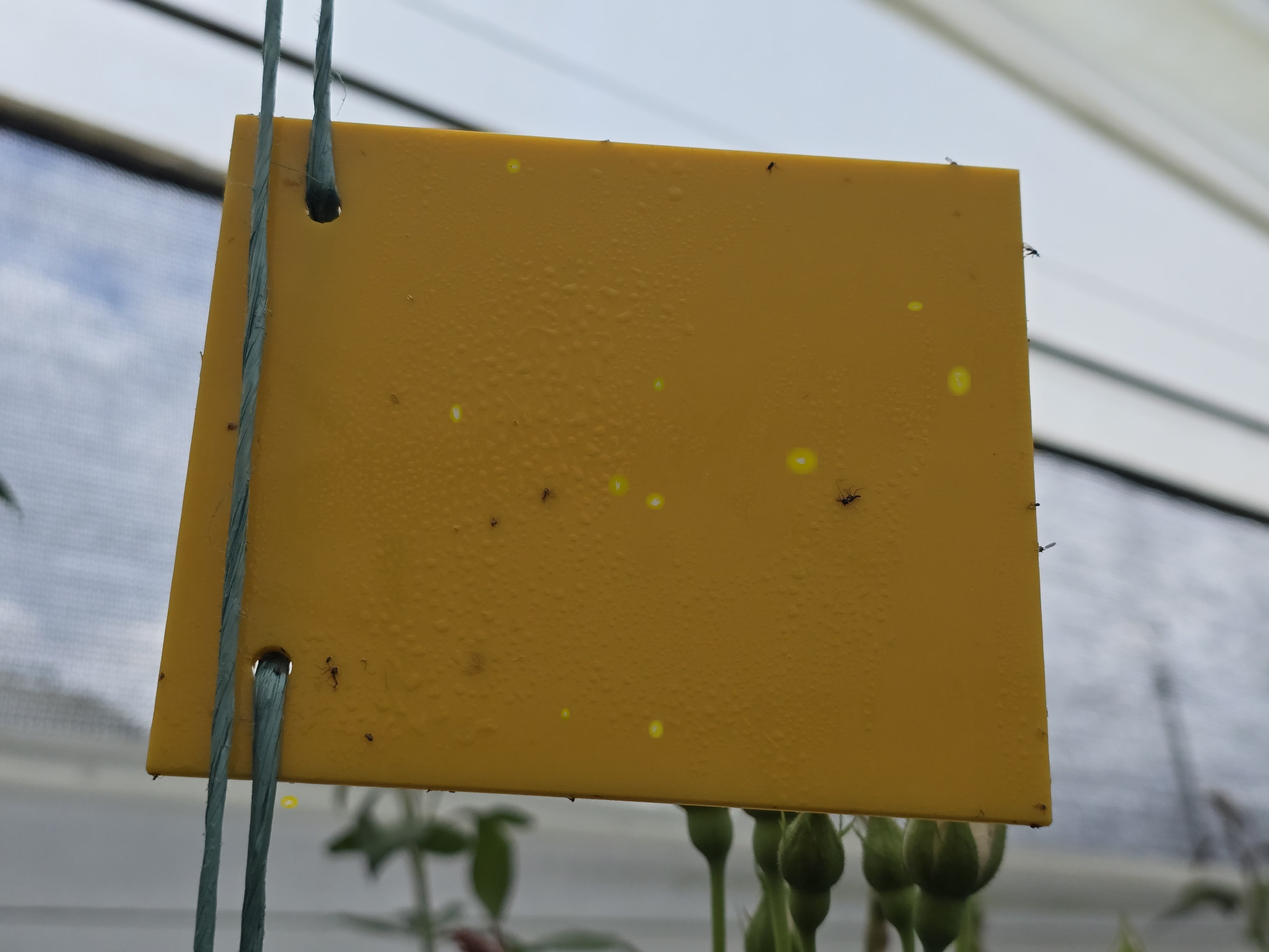WF: (791, 451, 813, 470), (951, 370, 967, 391), (611, 477, 626, 493), (648, 495, 662, 507), (651, 723, 661, 736), (451, 406, 460, 420), (283, 797, 295, 806), (508, 161, 518, 171), (654, 379, 663, 389), (406, 293, 415, 302), (910, 302, 920, 309), (562, 710, 568, 719)
